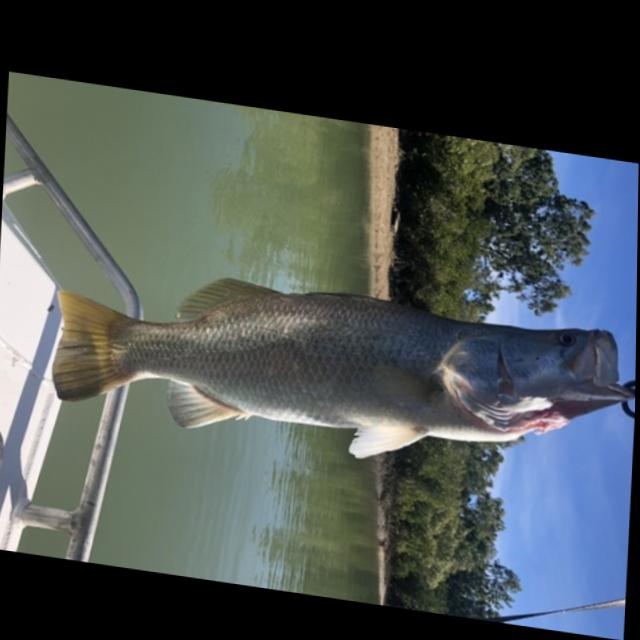Seabass: (49, 248, 636, 499)
